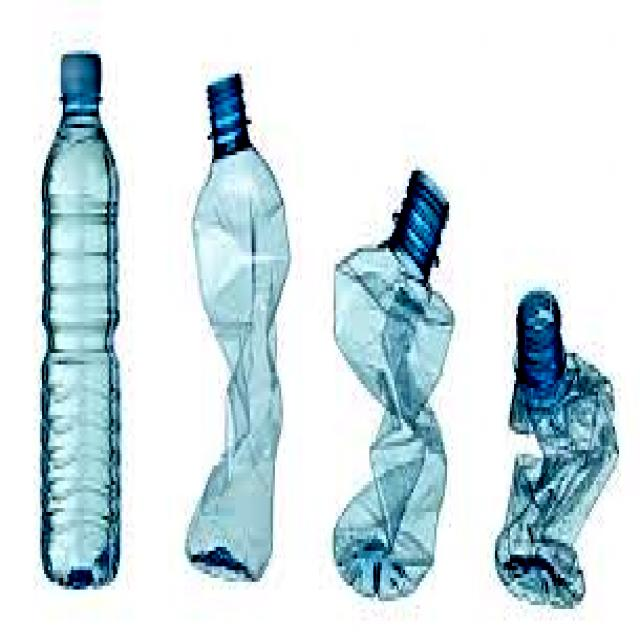Plastic: (336, 165, 463, 599), (187, 74, 290, 580), (38, 49, 127, 599), (486, 283, 621, 614)
